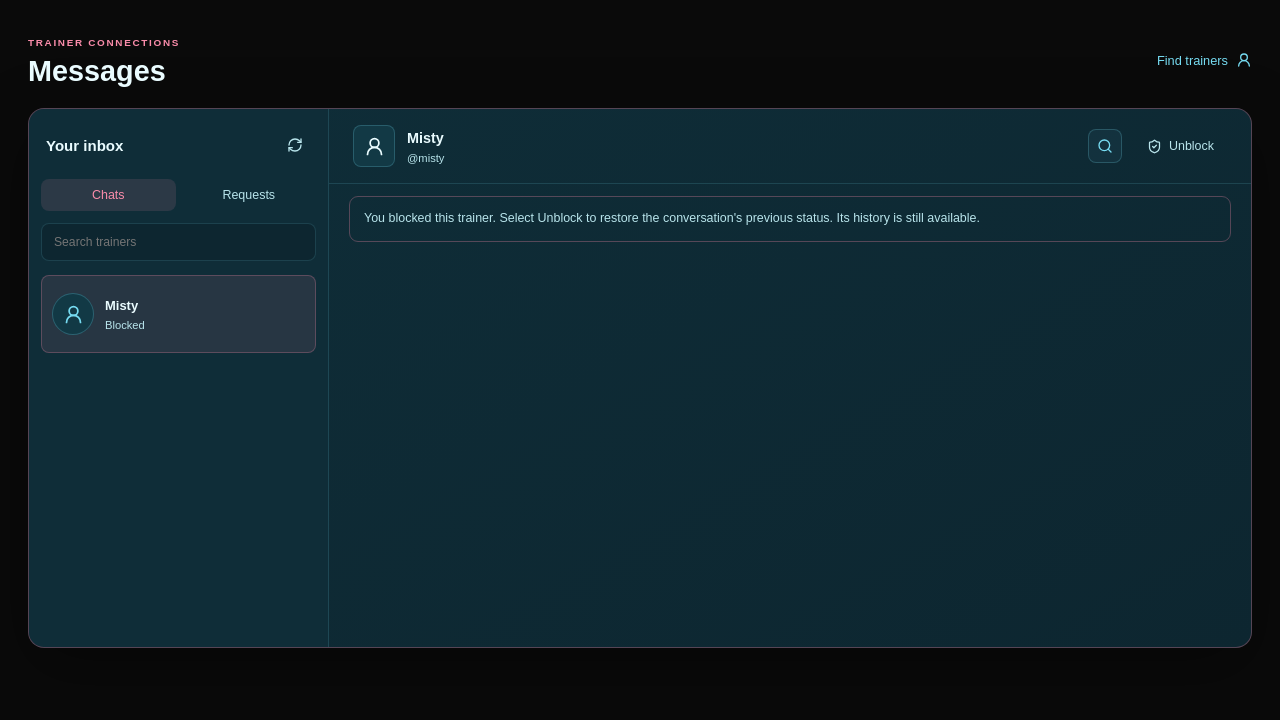
Test: messages inbox › keeps the conversation blocked if unblocking fails
Click the button "Unblock".
click(1180, 146)  # box left=1134, top=130, right=1227, bottom=162
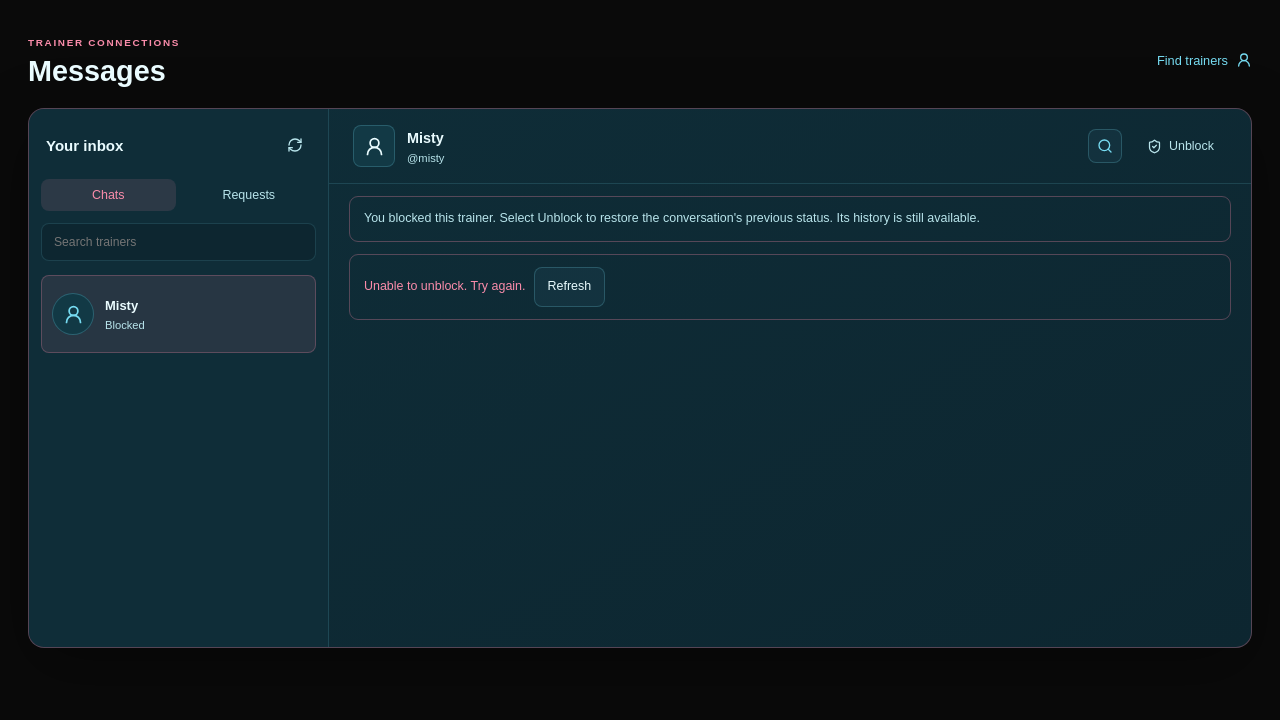
Expected: the message "Unable to unblock. Try again. Refresh" is shown, left=349, top=254, right=1231, bottom=320
